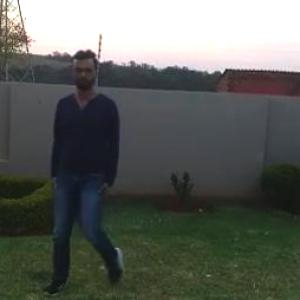follow: (57, 49, 138, 298)
